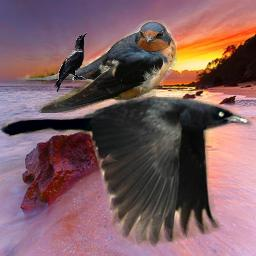Crow: (0, 94, 255, 247), (54, 32, 87, 92)
Swallow: (10, 20, 177, 113)
